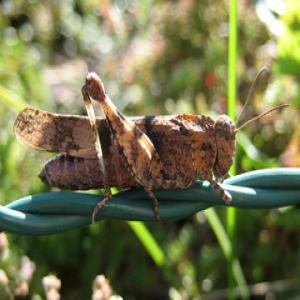locust: (9, 95, 274, 205)
